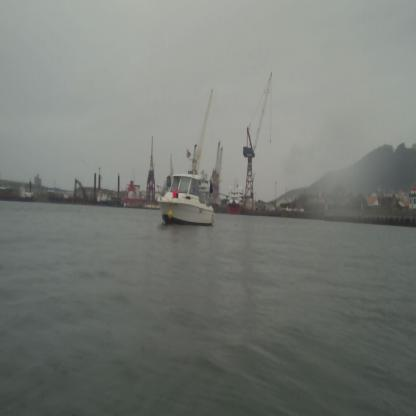Container Ship: (122, 178, 142, 207)
